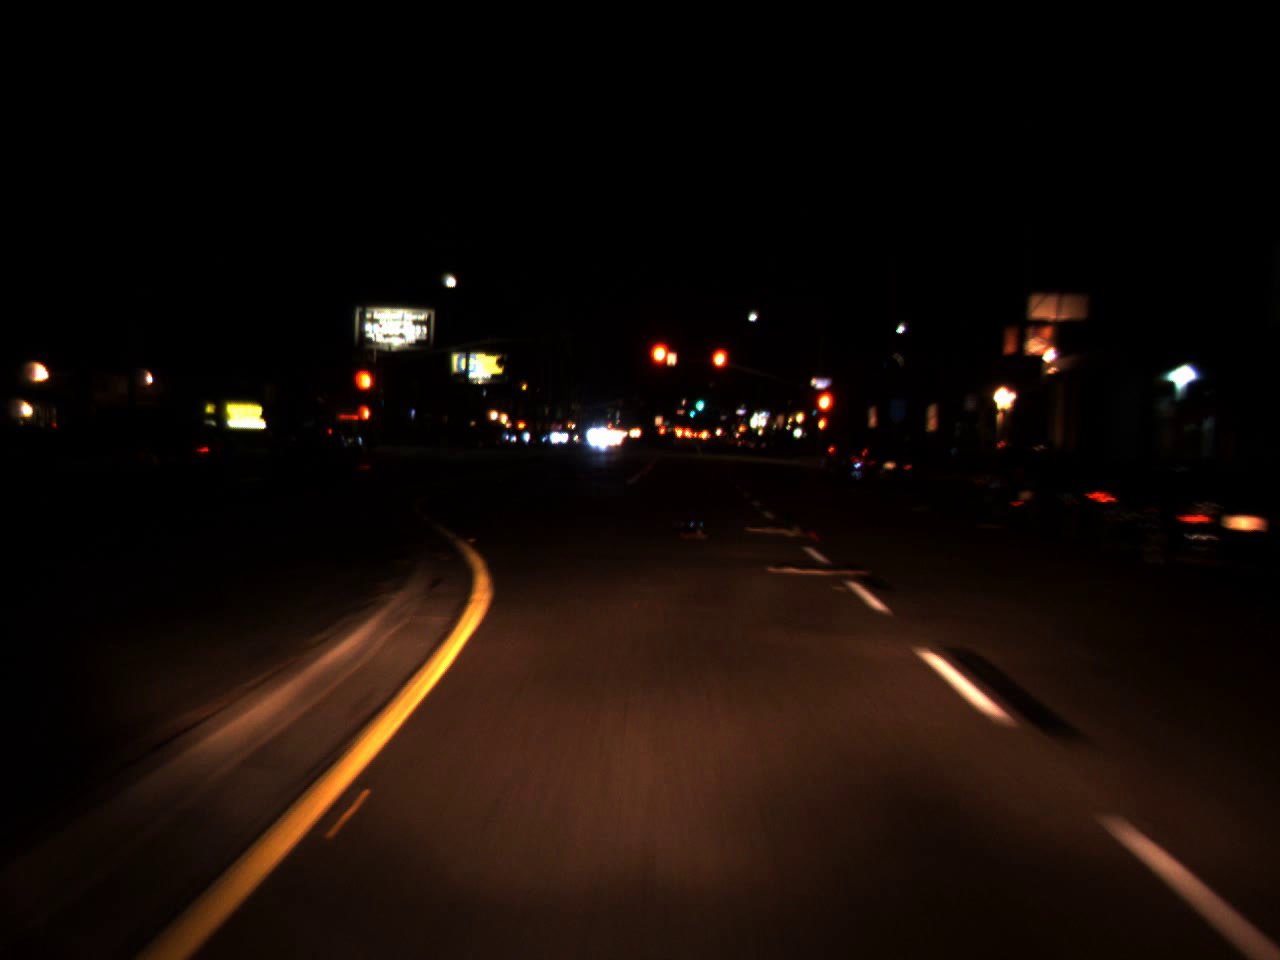go: (692, 389, 706, 413), (688, 406, 695, 418)
stop: (647, 339, 674, 390), (352, 366, 376, 414), (814, 387, 835, 438), (709, 345, 728, 390)
